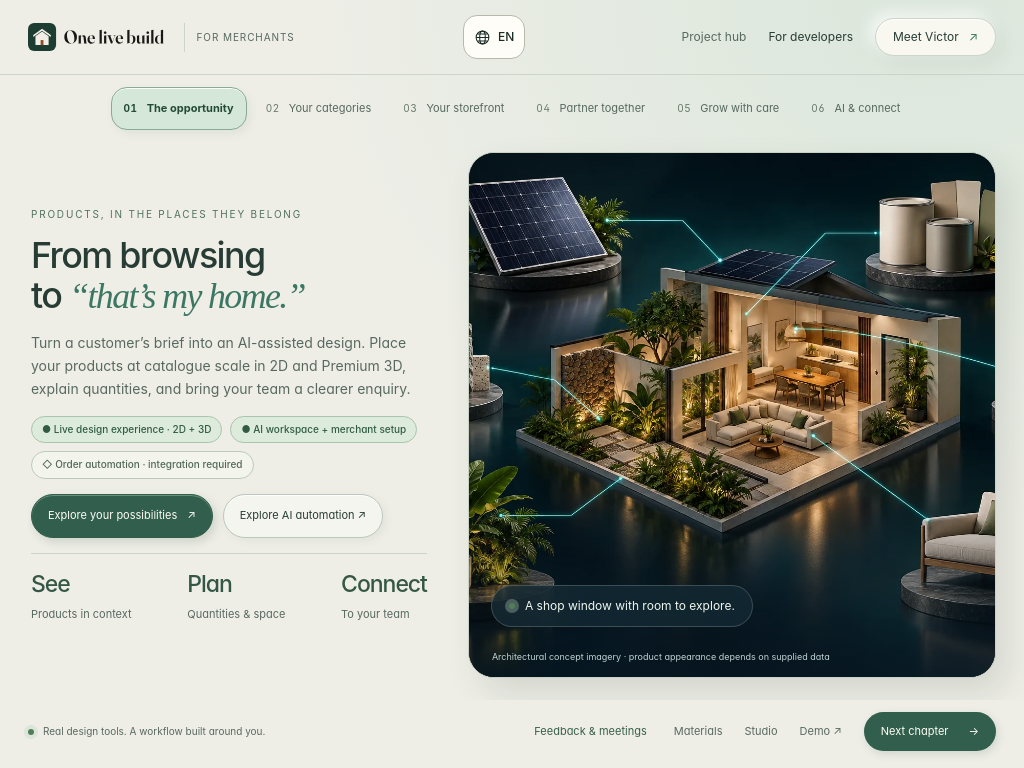
Test: interactive pitch chapters › explains secure identity through stages without collecting documents or submitting forms
Click the tab "05 Grow with care": click(728, 108) top-left (664, 87), bottom-right (792, 130)
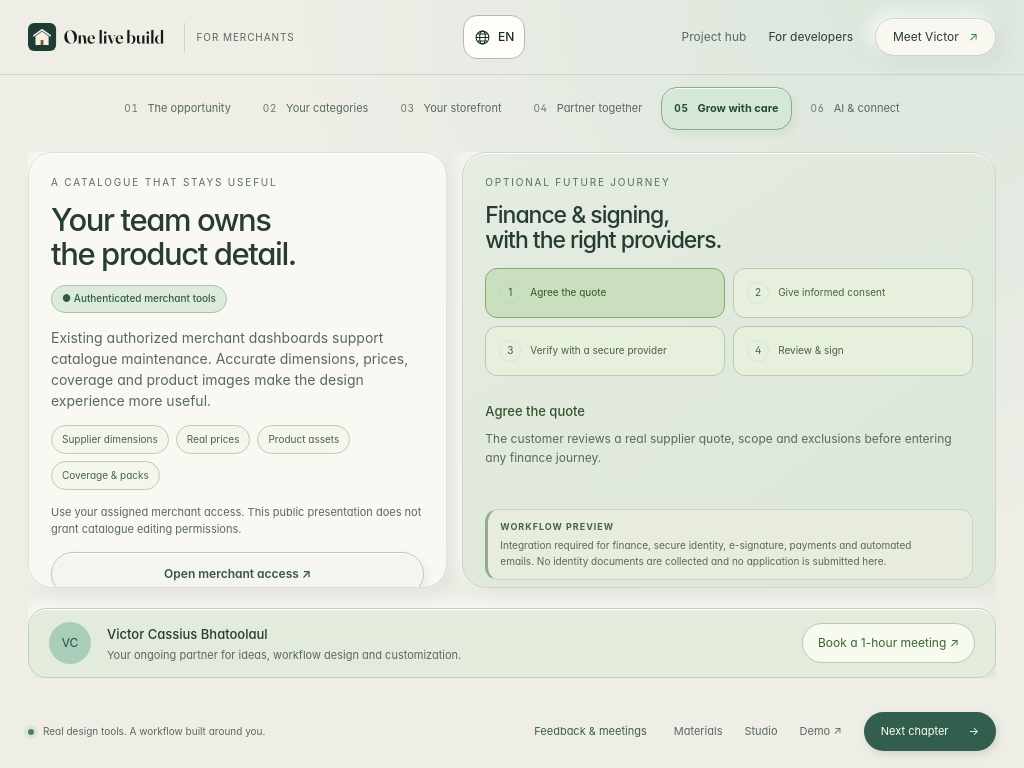
Click the button "3 Verify with a secure provider": click(605, 351) top-left (485, 326), bottom-right (725, 376)
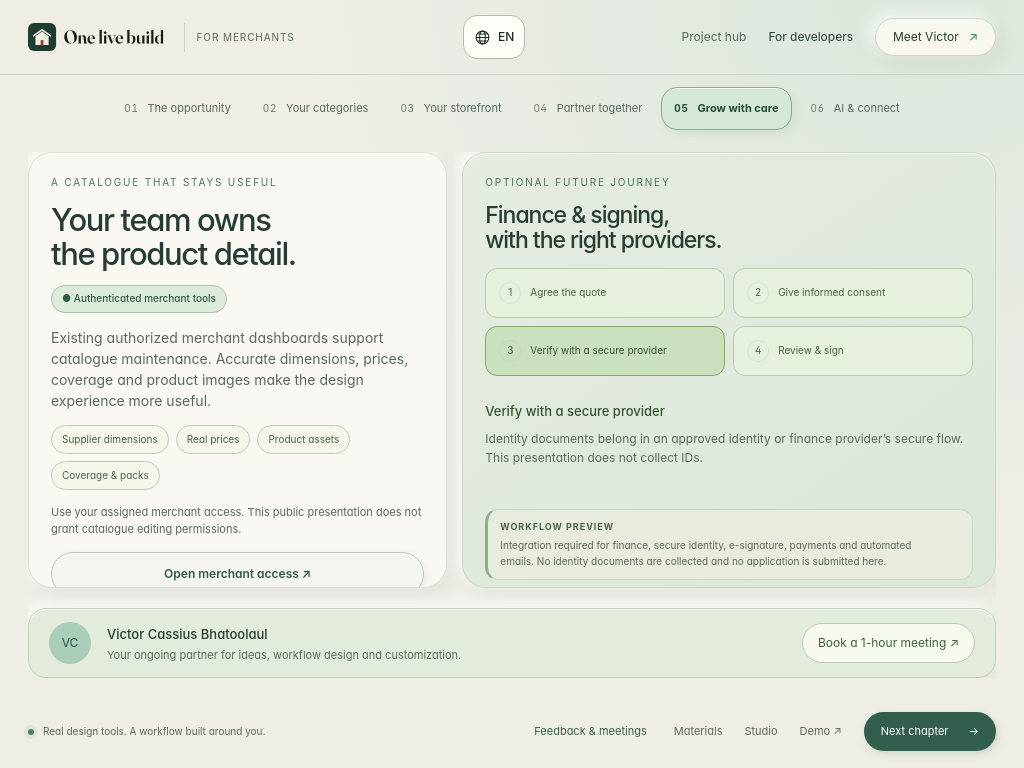
Expected: the text "no application is submitted" is shown, top-left (500, 539), bottom-right (911, 567)
Expected: the link to "/studio/merchants" is shown, top-left (51, 552), bottom-right (424, 588)
Expected: the element that starts with "Verify with a secure provider" shows "does not collect IDs", top-left (485, 431), bottom-right (963, 465)
